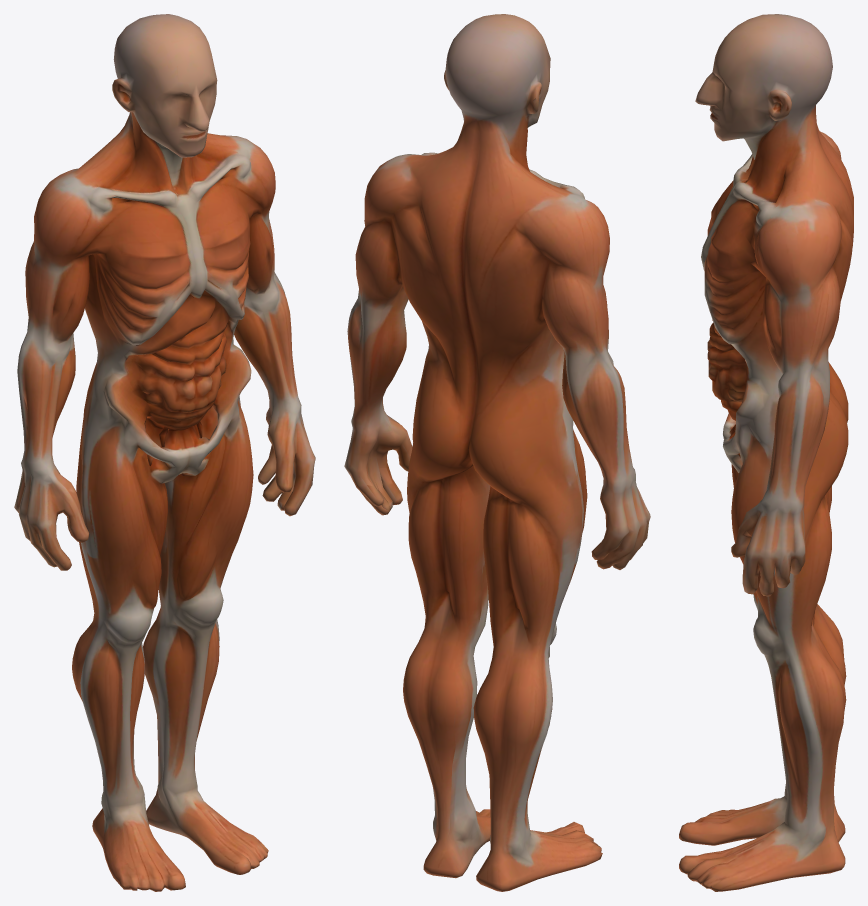
Rendered from sunken_f2bf8683_v1.glb.
3 renders of one model, left to right at view 1: azimuth 30°, elevation 25°; view 2: azimuth 150°, elevation 25°; view 3: azimuth 270°, elevation 25°, orthographic.
Parts seen in each view (by area): view 1: material; view 2: material; view 3: material.
Part boxes in pixels (box(x1,y1,x2,y2)): material: box(14, 14, 315, 891); material: box(344, 14, 650, 891); material: box(679, 14, 853, 891).
Bounding box in the file's own units: 0.6815 × 1.9 × 0.3593.
Materials: 1 (1 with a texture image).
